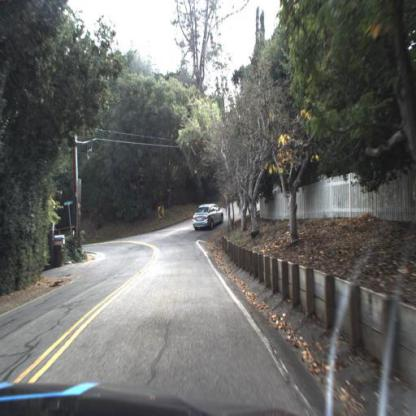car: (191, 199, 229, 234)
